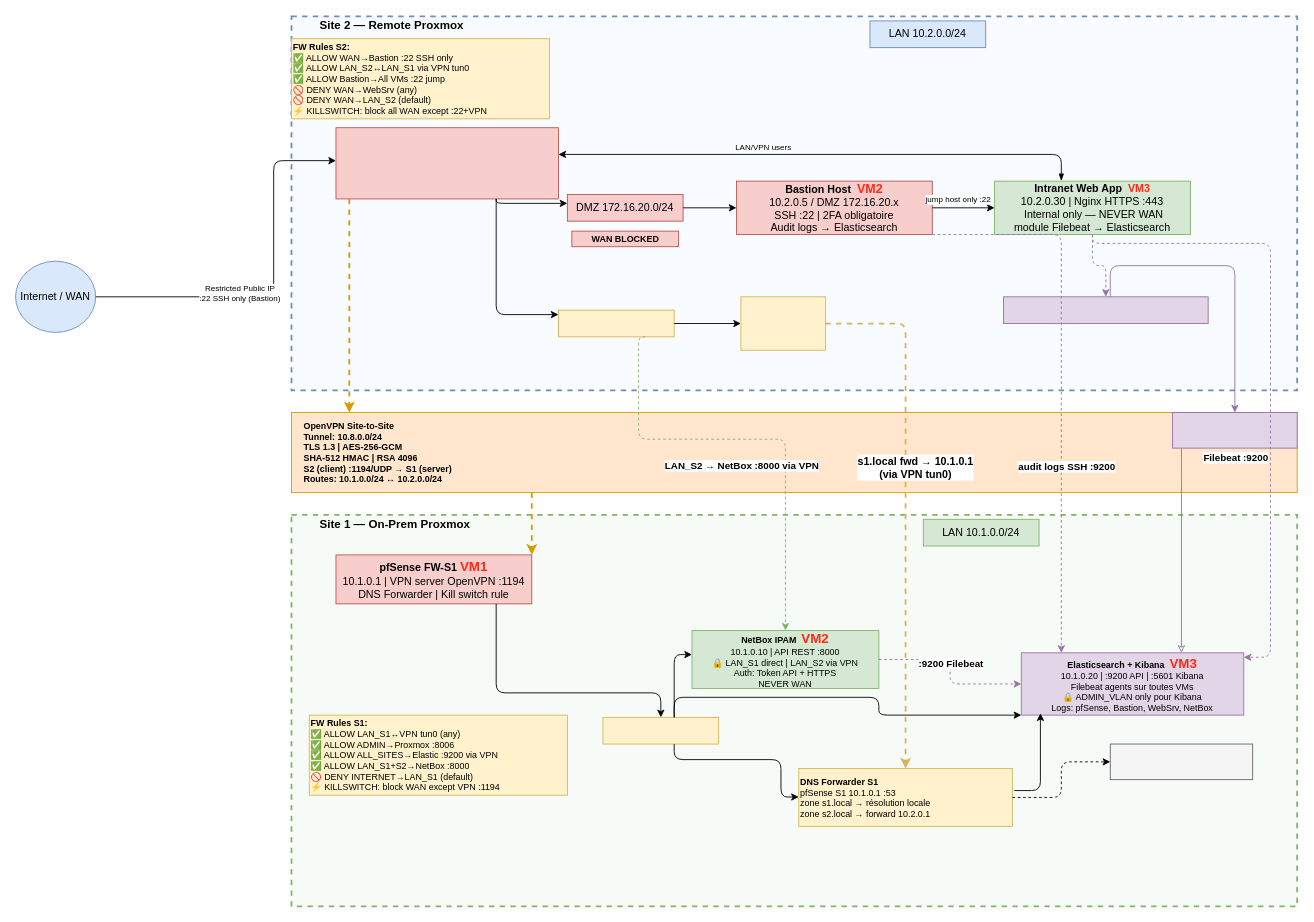
This 1314x922 diagram has some shape labels left out. Here are the shapes that lost their labels. From the top down, the centre of each, then its label:
(x=446, y=163): pfSense FW-S2 VM1 Router 10.2.0.1 | VPN client OpenVPN Kill switch rule NAT
(x=616, y=323): Admin 10.2.10.0/24
(x=782, y=323): DNS Forwarder S2
(x=1105, y=310): Log metric agents (Filebeat/Logstash)
(x=1234, y=430): Log metrics (Logstash pipeline)
(x=660, y=730): Admin 10.1.10.0/24
(x=1181, y=761): DNS fwd cache ROOT / ISP (1.1.1.1 / 8.8.8.8)
